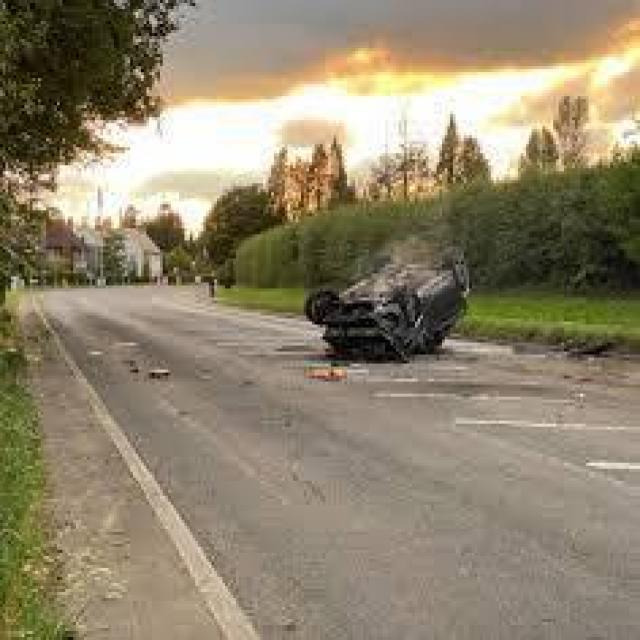accident: (309, 245, 477, 365)
